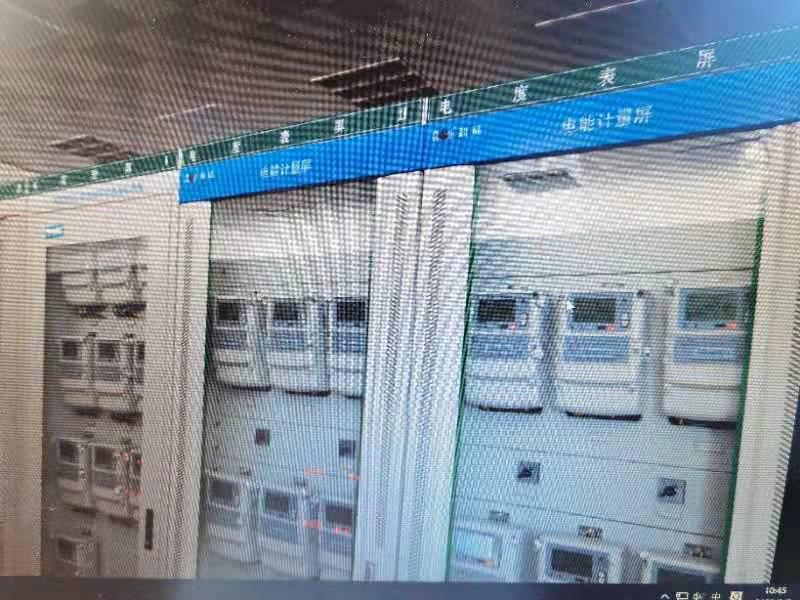digital: (665, 285, 749, 419), (556, 289, 636, 414), (466, 291, 537, 408), (257, 482, 306, 577), (266, 298, 314, 392), (535, 533, 615, 587), (211, 294, 253, 385), (447, 521, 509, 582), (203, 472, 245, 561), (327, 296, 362, 395), (319, 498, 352, 580), (641, 554, 720, 588), (55, 336, 90, 406), (54, 437, 87, 508), (93, 338, 125, 411), (91, 445, 122, 517), (60, 245, 95, 303), (98, 241, 128, 303), (55, 536, 80, 577), (126, 449, 140, 522), (136, 242, 149, 301), (134, 338, 142, 414)
